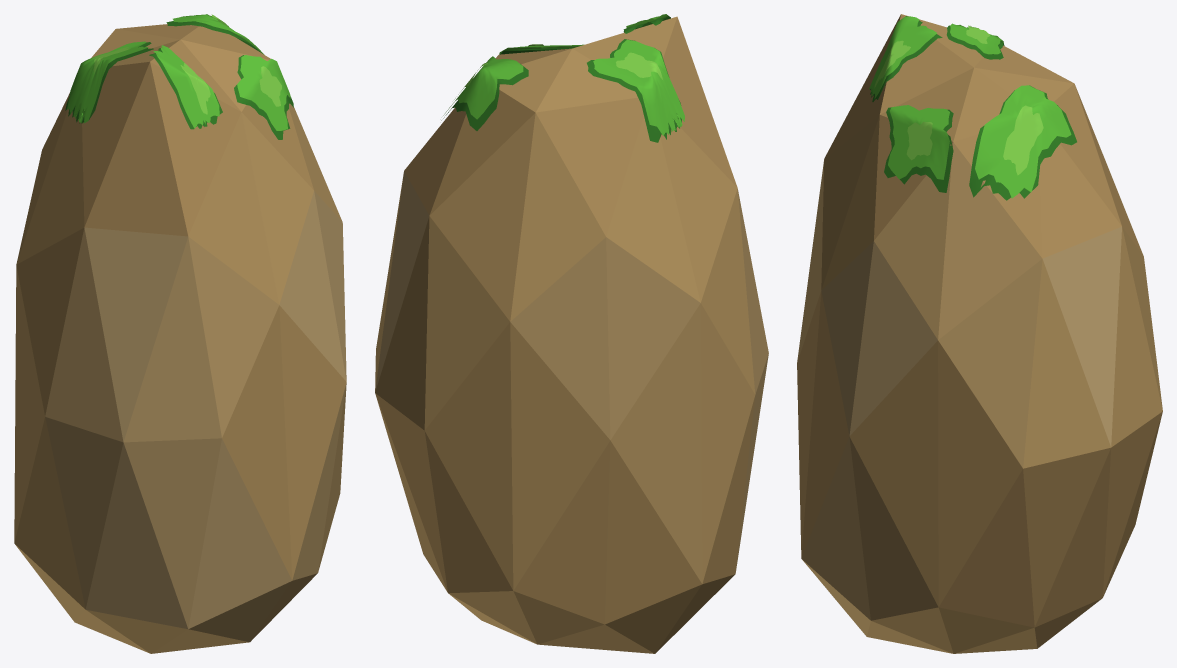
The model's file is rock_3_rim.glb.
The picture shows the model from 3 angles, left to right: view 1: azimuth 30°, elevation 25°; view 2: azimuth 150°, elevation 25°; view 3: azimuth 270°, elevation 25°; orthographic projection.
Visible parts, largest first — view 1: rock_3_rim; view 2: rock_3_rim; view 3: rock_3_rim.
Boxes of the visible parts, <box> form: rock_3_rim: <box>14,14,346,653</box>; rock_3_rim: <box>375,14,768,653</box>; rock_3_rim: <box>797,14,1162,653</box>.
Bounding box in the file's own units: 1.15 × 2.02 × 1.12.
